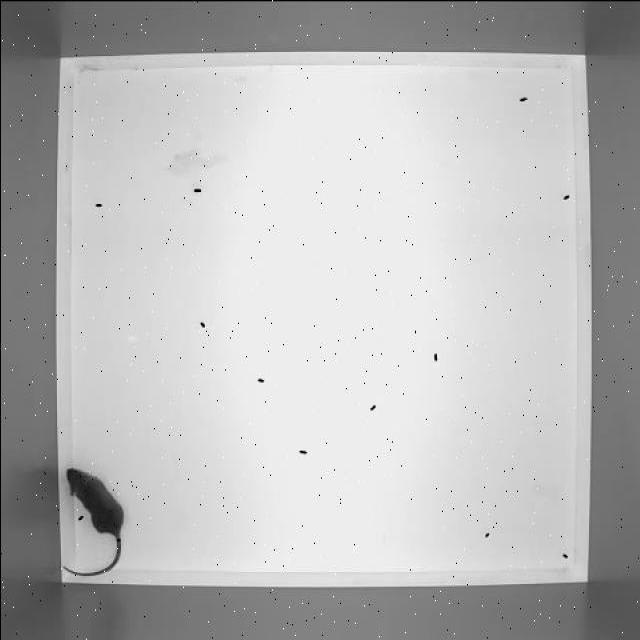rat: (61, 466, 122, 575)
